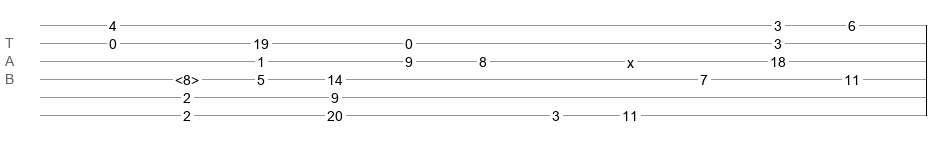0: (109, 36, 117, 46), (405, 36, 413, 46)
1: (257, 54, 265, 64)
11: (622, 108, 638, 118), (844, 72, 860, 82)
14: (327, 72, 343, 82)
18: (770, 54, 786, 64)
19: (253, 36, 269, 46)
2: (183, 108, 191, 118), (183, 90, 191, 100)
20: (327, 108, 343, 118)
3: (552, 108, 560, 118), (774, 18, 782, 28), (774, 36, 782, 46)
4: (109, 18, 117, 28)
5: (257, 72, 265, 82)
6: (848, 18, 856, 28)
7: (700, 72, 708, 82)
8: (479, 54, 487, 64)
9: (331, 90, 339, 100), (405, 54, 413, 64)
harmonic: (175, 72, 199, 82)
x: (627, 55, 634, 63)
